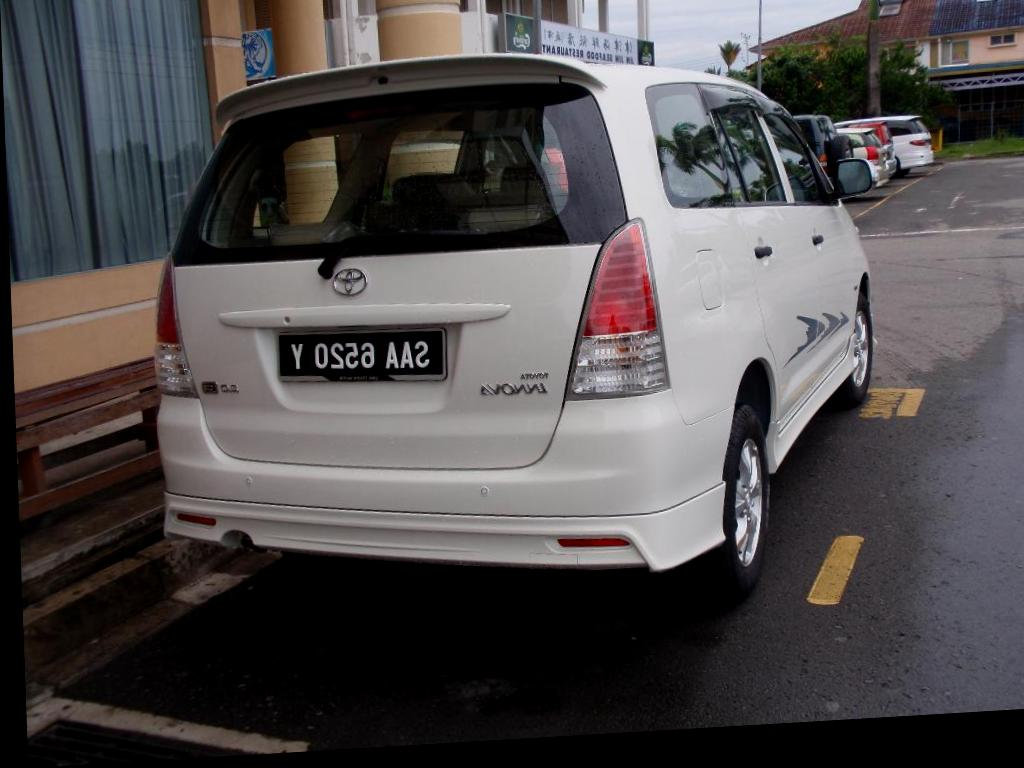License_Plate: (276, 327, 446, 393)
